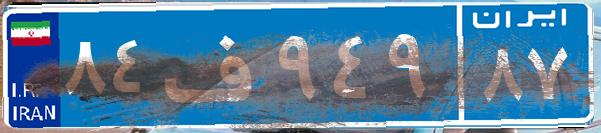4: (330, 28, 385, 110), (110, 28, 158, 105)
7: (525, 38, 570, 115)
8: (57, 26, 110, 107), (475, 38, 525, 113)
9: (385, 28, 445, 110), (273, 28, 330, 110)
ف: (158, 15, 273, 115)
